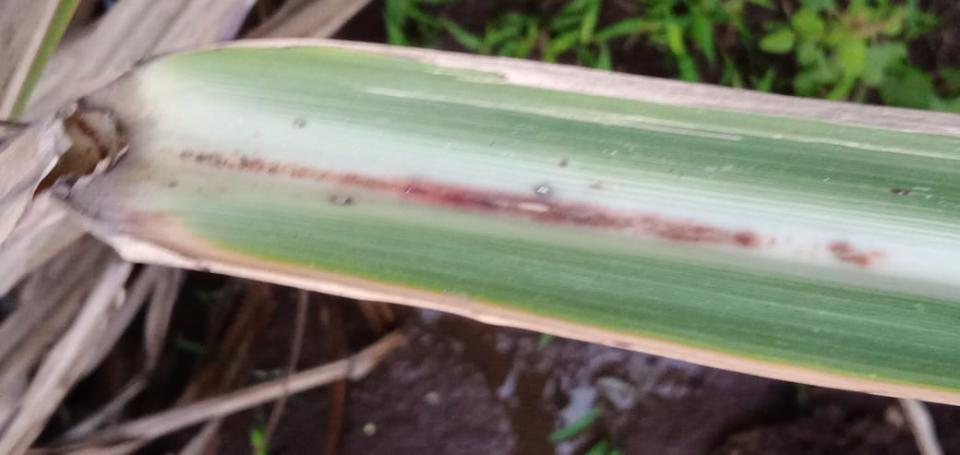RedRot: (174, 150, 760, 249), (825, 240, 885, 268)
Yellow: (160, 204, 959, 404)
